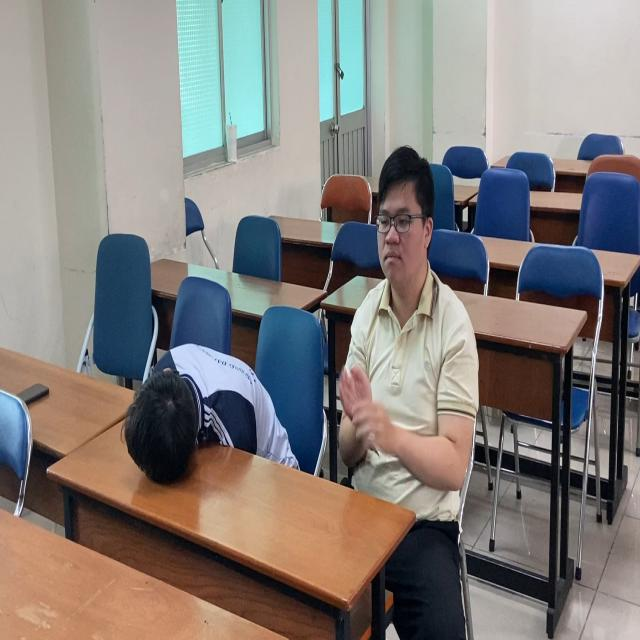sleep: (108, 336, 305, 504)
